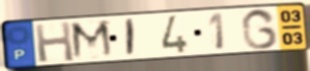1: (207, 11, 226, 52)
4: (159, 13, 191, 55)
G: (240, 7, 280, 51)
H: (32, 20, 77, 64)
I: (125, 17, 137, 58)
M: (69, 19, 117, 62)
